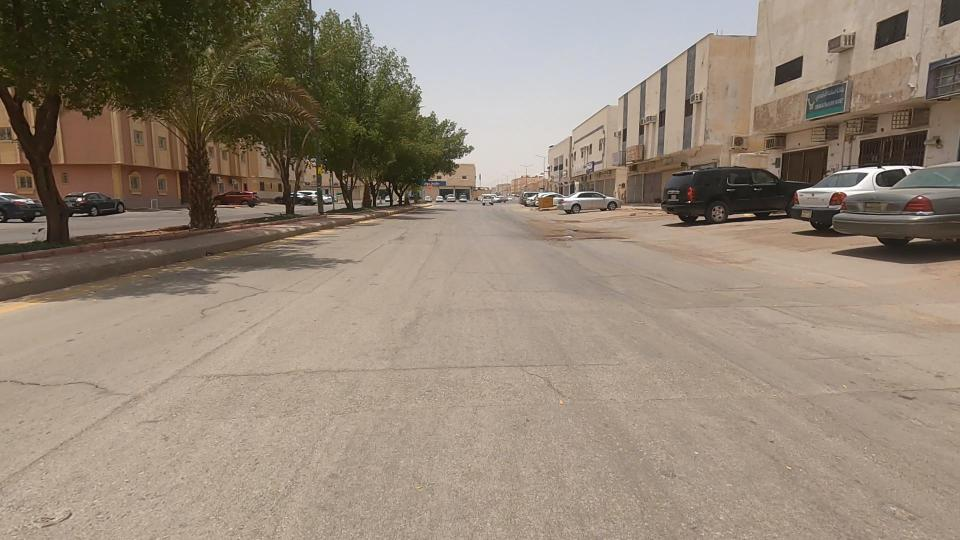POTHOLES: (423, 332, 634, 478), (3, 316, 206, 452)
